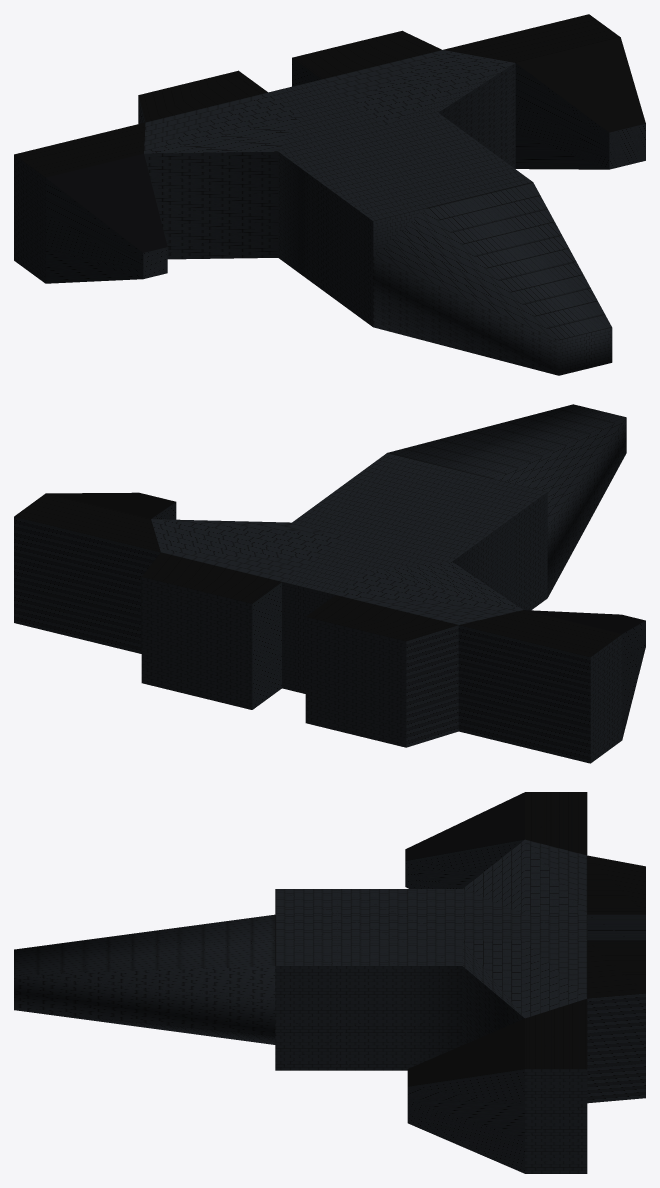
The model's file is Enemy.FBX.
3 renders of one model, top to bottom at view 1: azimuth 30°, elevation 25°; view 2: azimuth 150°, elevation 25°; view 3: azimuth 270°, elevation 25°, orthographic.
Parts seen in each view (by area): view 1: Box001; view 2: Box001; view 3: Box001.
Part boxes in pixels (x1=…): Box001: x1=14, y1=14, x2=645, y2=375; Box001: x1=14, y1=404, x2=645, y2=763; Box001: x1=14, y1=792, x2=645, y2=1173.
Bounding box in the file's own units: 34.54 × 33.31 × 6.09.
Materials: 1 (1 with a texture image).
